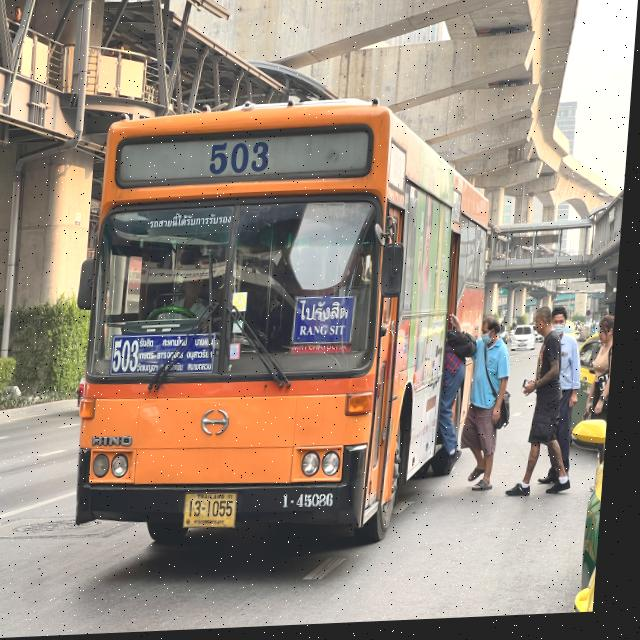BMTA-bus: (64, 84, 507, 568)
Bus-Line-Number: (201, 140, 283, 180)
Destination-Sign-Normal: (298, 297, 362, 346)
